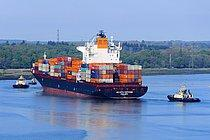Ship: (30, 28, 149, 103)
